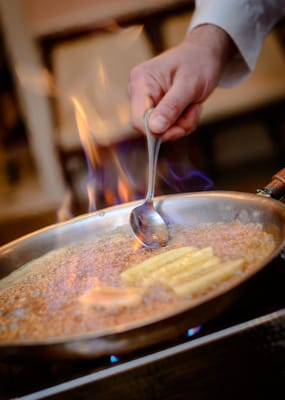sandwich: (0, 194, 282, 345), (131, 115, 174, 247)
